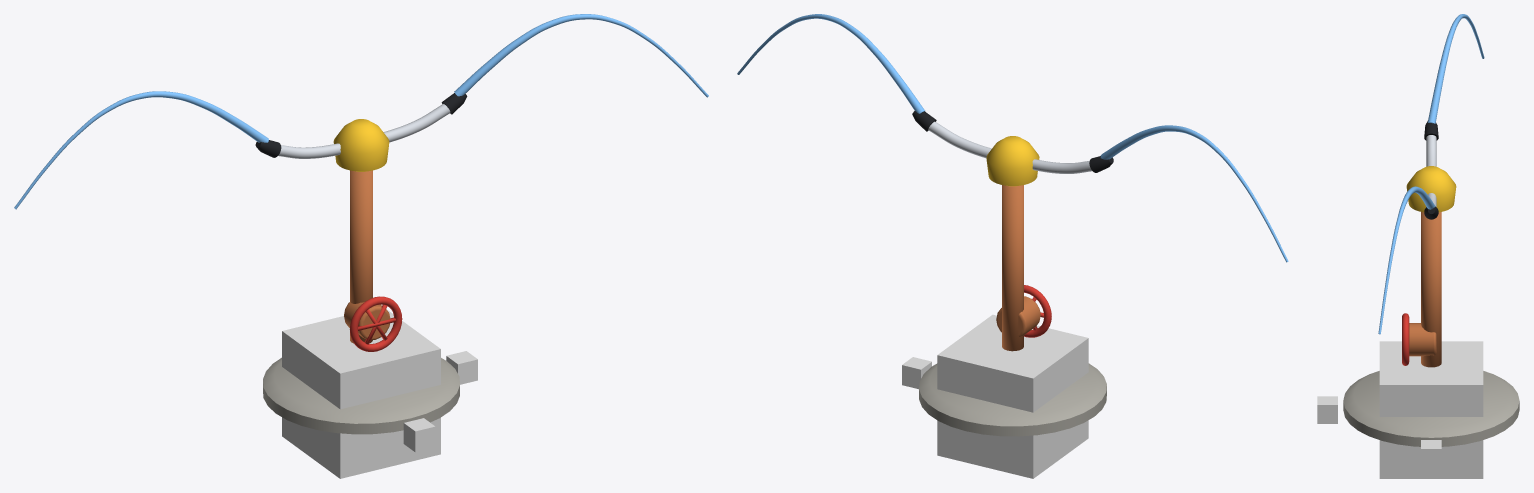
File: Sprinkler.fbx
3 renders of one model, left to right at view 1: azimuth 30°, elevation 25°; view 2: azimuth 150°, elevation 25°; view 3: azimuth 270°, elevation 25°, orthographic. The views are drawn at different scales.
Visible parts, largest first — view 1: Origin__Pivot, Body__Concrete, Body__Copper, Head__Water, Head__Yellow, Body__Red, Head__Chrome, Origin__AxisZ, Origin__AxisX; view 2: Origin__Pivot, Body__Concrete, Body__Copper, Head__Water, Head__Yellow, Head__Chrome, Origin__AxisX, Body__Red; view 3: Origin__Pivot, Body__Concrete, Body__Copper, Head__Water, Head__Yellow, Origin__AxisX, Origin__AxisZ, Head__Chrome, Body__Red, Head__Black.
Boxes of the visible parts, box(x1,y1,x2,y2) form: Origin__Pivot: box(282, 309, 440, 478); Body__Concrete: box(263, 357, 459, 434); Body__Copper: box(344, 170, 390, 343); Head__Water: box(14, 14, 708, 209); Head__Yellow: box(333, 119, 389, 171); Body__Red: box(349, 296, 402, 351); Head__Chrome: box(278, 104, 450, 158); Origin__AxisZ: box(403, 418, 435, 452); Origin__AxisX: box(446, 351, 477, 384); Origin__Pivot: box(937, 314, 1088, 478); Body__Concrete: box(919, 363, 1106, 436); Body__Copper: box(996, 185, 1040, 351); Head__Water: box(737, 14, 1288, 262); Head__Yellow: box(986, 136, 1039, 186); Head__Chrome: box(928, 121, 1092, 173); Origin__AxisX: box(902, 357, 931, 389); Body__Red: box(1024, 285, 1051, 337); Origin__Pivot: box(1379, 341, 1483, 478); Body__Concrete: box(1343, 371, 1519, 446); Body__Copper: box(1409, 212, 1441, 367); Head__Water: box(1378, 14, 1484, 334); Head__Yellow: box(1406, 166, 1456, 212); Origin__AxisX: box(1421, 440, 1441, 467); Origin__AxisZ: box(1317, 396, 1337, 423); Head__Chrome: box(1426, 135, 1436, 206); Body__Red: box(1402, 313, 1409, 365); Head__Black: box(1424, 121, 1438, 219).
Bounding box in the file's own units: 6.32 × 3.72 × 1.95.
